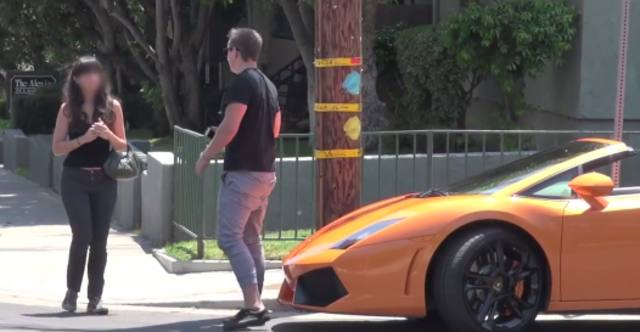Person: (195, 28, 280, 329), (51, 56, 127, 315)
